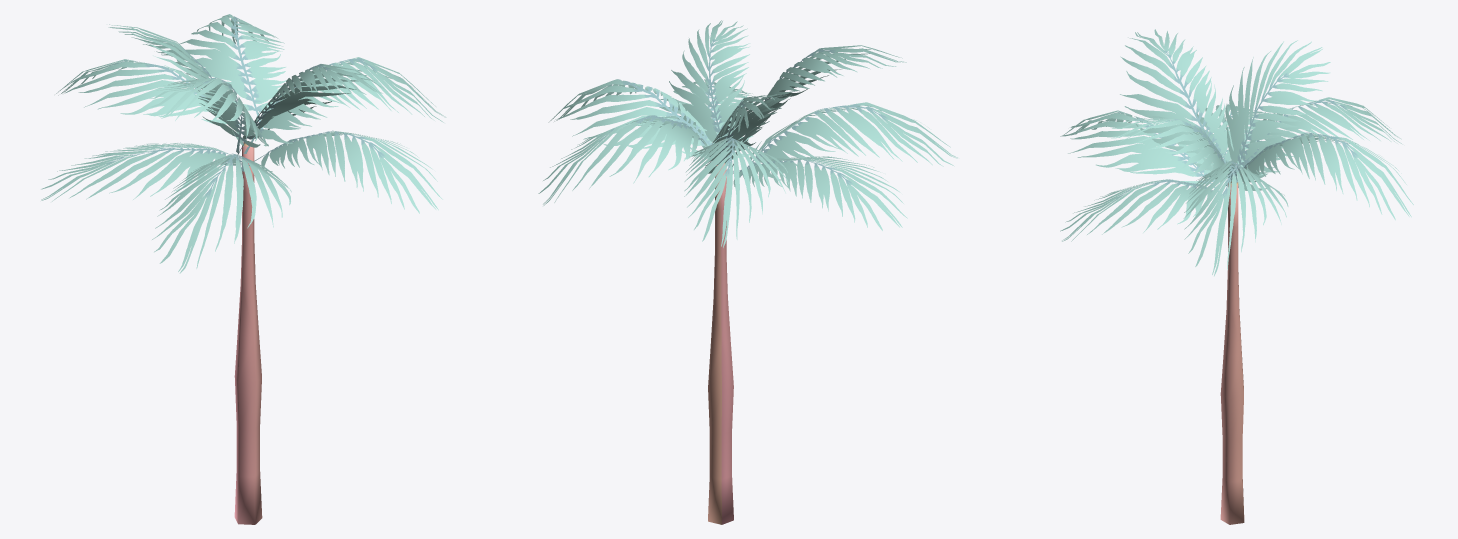
File: M.palm_tree-v1.4.fbx
The picture shows the model from 3 angles, left to right: view 1: azimuth 30°, elevation 25°; view 2: azimuth 150°, elevation 25°; view 3: azimuth 270°, elevation 25°; orthographic projection. The views are drawn at different scales.
Visible parts, largest first — view 1: leaf2.037; view 2: leaf2.037; view 3: leaf2.037.
Boxes of the visible parts, box(x1,y1,x2,y2) form: leaf2.037: box(41, 14, 446, 524); leaf2.037: box(538, 20, 957, 524); leaf2.037: box(1060, 29, 1413, 524).
Size of the model in its own units: 594 by 717 by 627.
